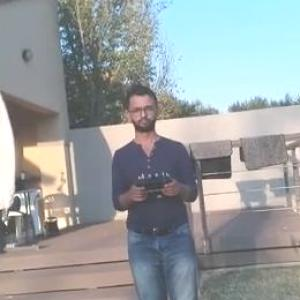follow: (110, 83, 206, 299)
